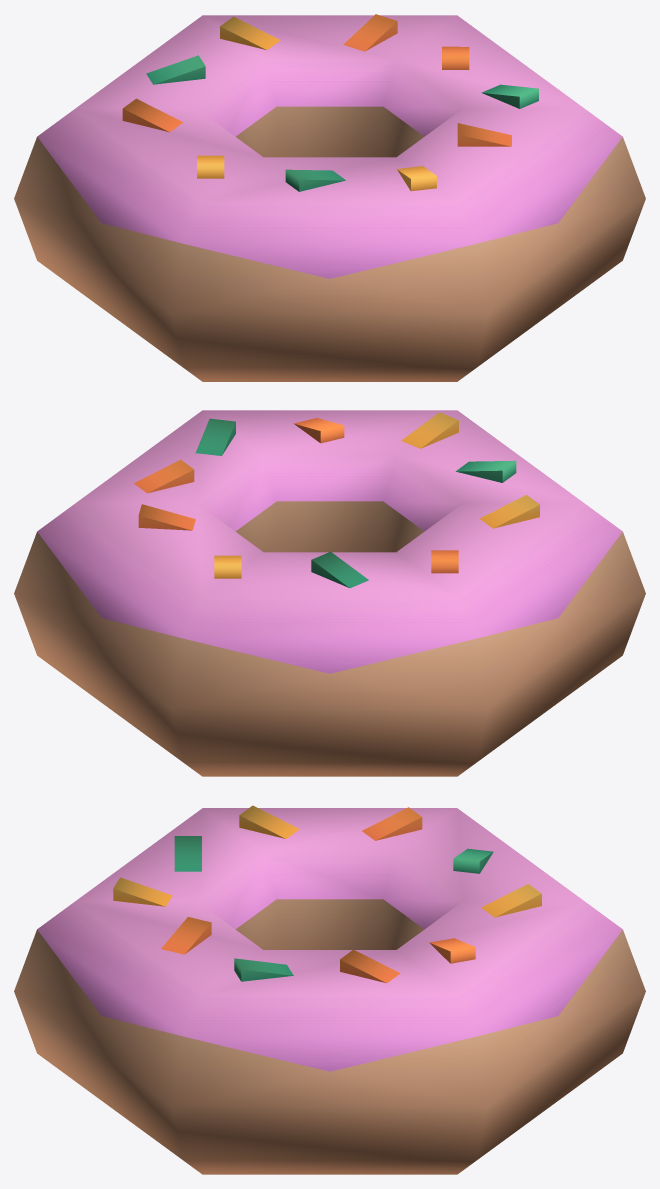
The model's file is donut-sprinkles.glb.
The picture shows the model from 3 angles, top to bottom: view 1: azimuth 30°, elevation 25°; view 2: azimuth 150°, elevation 25°; view 3: azimuth 270°, elevation 25°; orthographic projection.
Parts seen in each view (by area): view 1: donut-sprinkles; view 2: donut-sprinkles; view 3: donut-sprinkles.
Part boxes in pixels (box(x1,y1,x2,y2)): donut-sprinkles: box(14, 14, 645, 381); donut-sprinkles: box(14, 410, 645, 776); donut-sprinkles: box(14, 805, 645, 1174).
Bounding box in the file's own units: 0.2451 × 0.095 × 0.283.
Materials: 1 (1 with a texture image).
